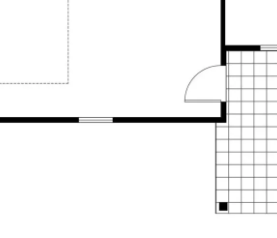door: (180, 52, 237, 110)
window: (75, 110, 120, 137)
